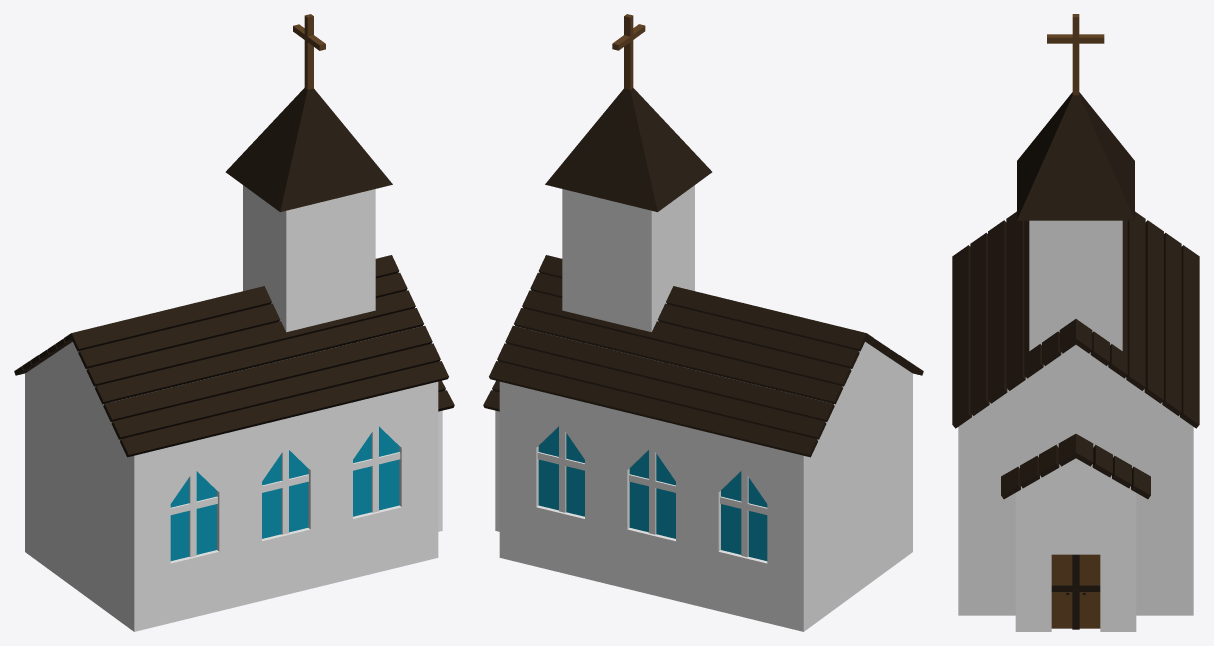
The model's file is Church.fbx.
3 renders of one model, left to right at view 1: azimuth 30°, elevation 25°; view 2: azimuth 150°, elevation 25°; view 3: azimuth 270°, elevation 25°, orthographic. The views are drawn at different scales.
Parts seen in each view (by area): view 1: Cube.001; view 2: Cube.001; view 3: Cube.001.
Part boxes in pixels (<box>): Cube.001: <box>14,14,454,631</box>; Cube.001: <box>483,14,923,631</box>; Cube.001: <box>952,14,1199,631</box>.
Bounding box in the file's own units: 4244 × 6049 × 2415.
Materials: 1 (1 with a texture image).
